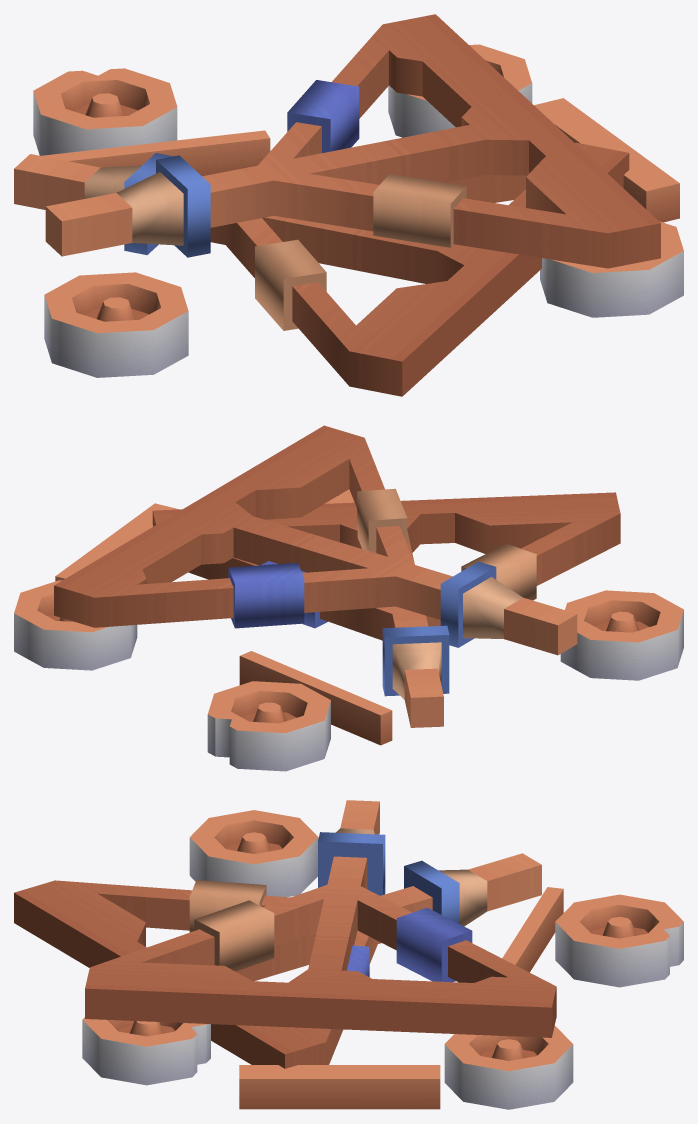
The model's file is siege-trebuchet-demolished.glb.
The picture shows the model from 3 angles, top to bottom: view 1: azimuth 30°, elevation 25°; view 2: azimuth 150°, elevation 25°; view 3: azimuth 270°, elevation 25°; orthographic projection. The views are drawn at different scales.
Parts seen in each view (by area): view 1: siege-trebuchet-demolished; view 2: siege-trebuchet-demolished; view 3: siege-trebuchet-demolished.
Boxes of the visible parts, x1,y1,x2,y2 form: siege-trebuchet-demolished: [14, 14, 683, 396]; siege-trebuchet-demolished: [14, 425, 683, 771]; siege-trebuchet-demolished: [14, 800, 683, 1109].
Size of the model in its own units: 1.93 by 0.3097 by 2.1.
1 material, 1 textured.
